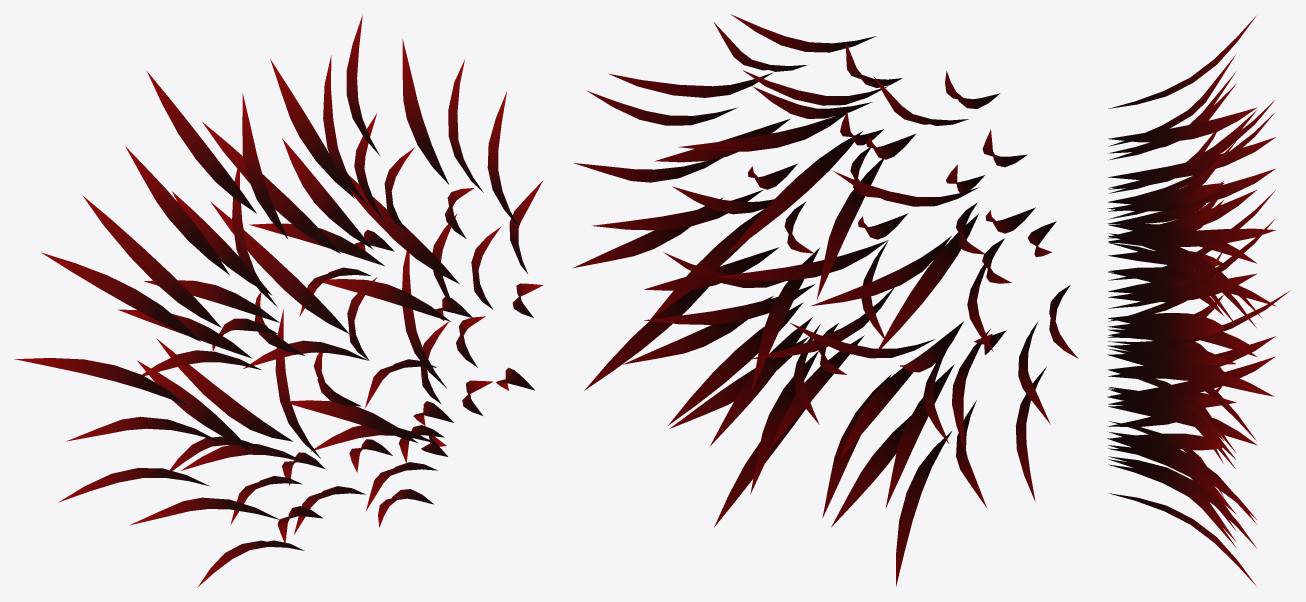
Rendered from grass.fbx.
3 renders of one model, left to right at view 1: azimuth 30°, elevation 25°; view 2: azimuth 150°, elevation 25°; view 3: azimuth 270°, elevation 25°, orthographic. The views are drawn at different scales.
Visible parts, largest first — view 1: grass; view 2: grass; view 3: grass.
Boxes of the visible parts, x1=… form: grass: x1=14, y1=15, x2=543, y2=587; grass: x1=572, y1=14, x2=1078, y2=586; grass: x1=1107, y1=14, x2=1290, y2=587.
Size of the model in its own units: 3.67 by 3.61 by 1.24.
